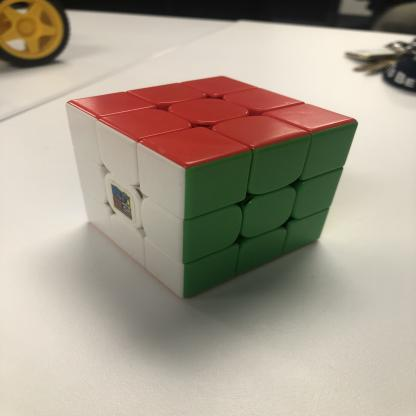SolvedCube: (46, 64, 365, 308)
